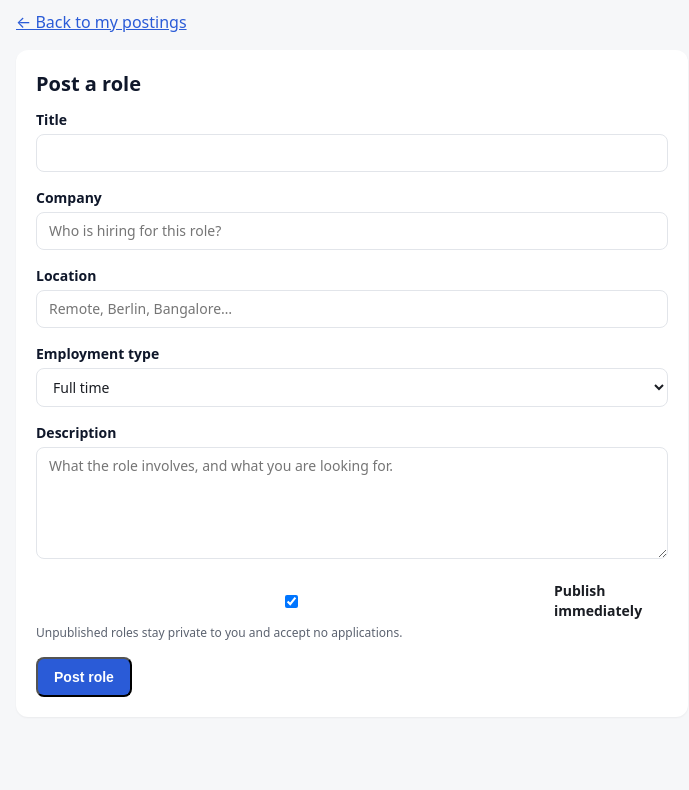
Test: JobFormPage — creating › blocks submission on a missing required field
In the field labelled "Title": coordinates (352, 153) [36,134,668,172], type "Staff Engineer"
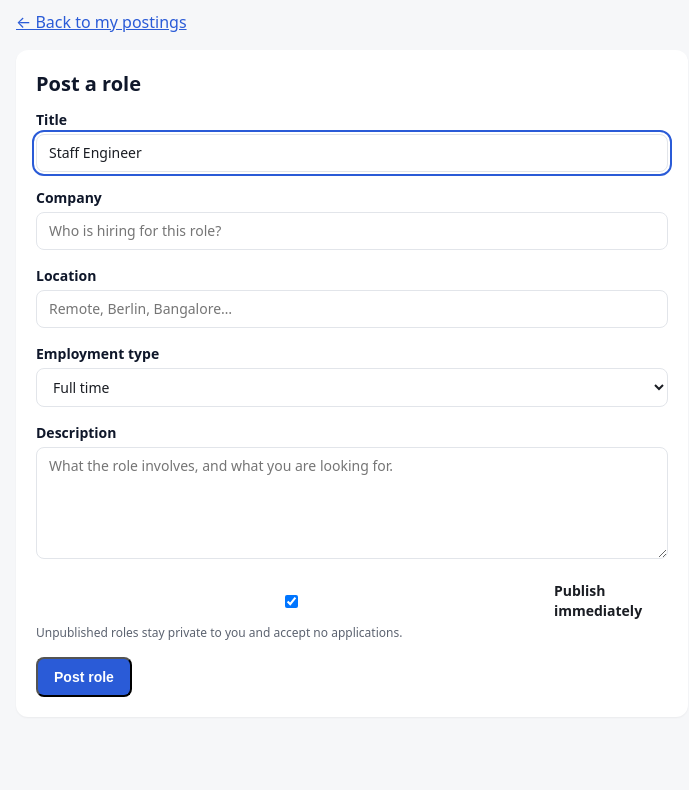
Click the button "Post role": coordinates (84, 677) [36,657,132,697]
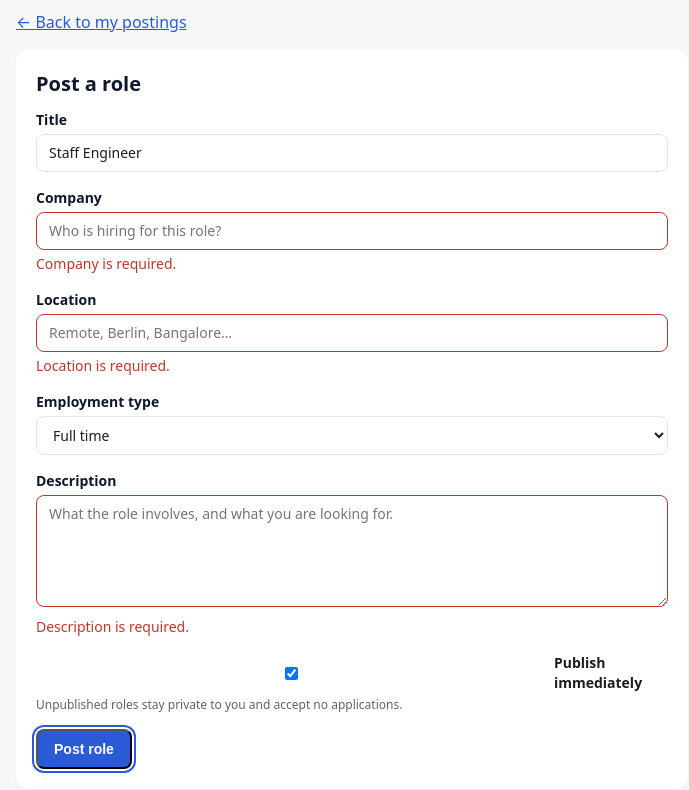
Now the text "Company is required." is shown, box [36,254,176,273]
